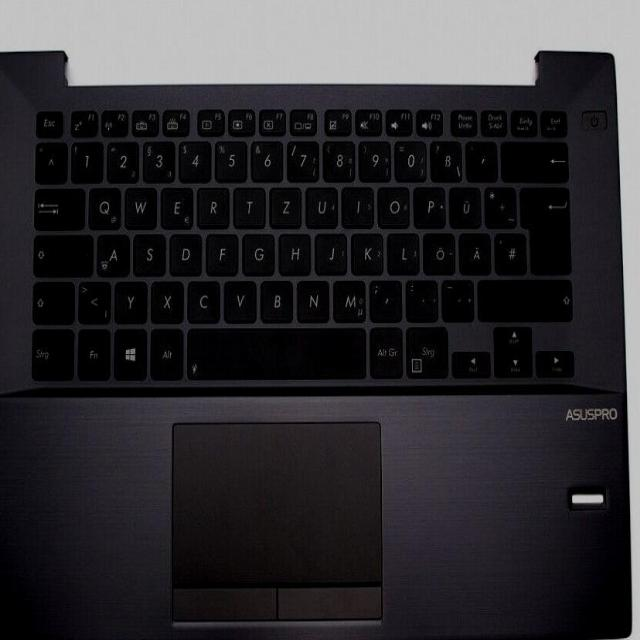0: (394, 137, 425, 179)
1: (69, 138, 101, 180)
2: (104, 138, 137, 180)
3: (141, 138, 173, 180)
4: (177, 138, 209, 179)
5: (213, 138, 246, 179)
6: (249, 138, 281, 179)
7: (285, 137, 318, 179)
8: (322, 138, 354, 179)
9: (357, 137, 390, 179)
a: (95, 231, 128, 274)
accent: (465, 138, 496, 179)
ae: (458, 229, 489, 273)
alt-left: (149, 326, 182, 379)
altgr-right: (369, 324, 402, 376)
b: (258, 278, 292, 320)
c: (185, 278, 219, 321)
caret: (33, 139, 65, 181)
comma: (368, 277, 401, 320)
d: (168, 230, 200, 274)
del: (500, 138, 567, 179)
e: (159, 184, 192, 226)
enter: (521, 184, 571, 274)
f: (204, 230, 237, 273)
g: (240, 230, 273, 274)
h: (277, 230, 309, 273)
hash: (494, 230, 527, 273)
i: (340, 184, 373, 225)
j: (313, 229, 346, 273)
k: (349, 229, 382, 273)
keyboard: (21, 95, 586, 391)
l: (386, 229, 418, 273)
less: (76, 278, 109, 321)
m: (331, 277, 366, 321)
minus: (440, 278, 473, 319)
n: (295, 277, 329, 320)
o: (377, 184, 408, 225)
oe: (422, 230, 454, 273)
p: (413, 184, 444, 225)
plus: (483, 184, 515, 226)
point: (404, 277, 437, 319)
q: (86, 184, 120, 227)
r: (196, 184, 228, 226)
s: (131, 231, 164, 274)
shift-left: (29, 279, 73, 322)
shift-lock: (31, 232, 92, 275)
shift-right: (476, 277, 571, 319)
space: (186, 324, 365, 377)
ss: (429, 138, 461, 179)
strg-left: (28, 326, 73, 379)
strg-right: (405, 324, 448, 376)
t: (232, 184, 263, 225)
tab: (32, 185, 83, 228)
u: (304, 183, 337, 226)
ue: (448, 184, 480, 226)
v: (222, 277, 255, 321)
w: (122, 184, 155, 226)
x: (150, 278, 183, 321)
y: (112, 279, 145, 321)
z: (267, 184, 300, 226)
